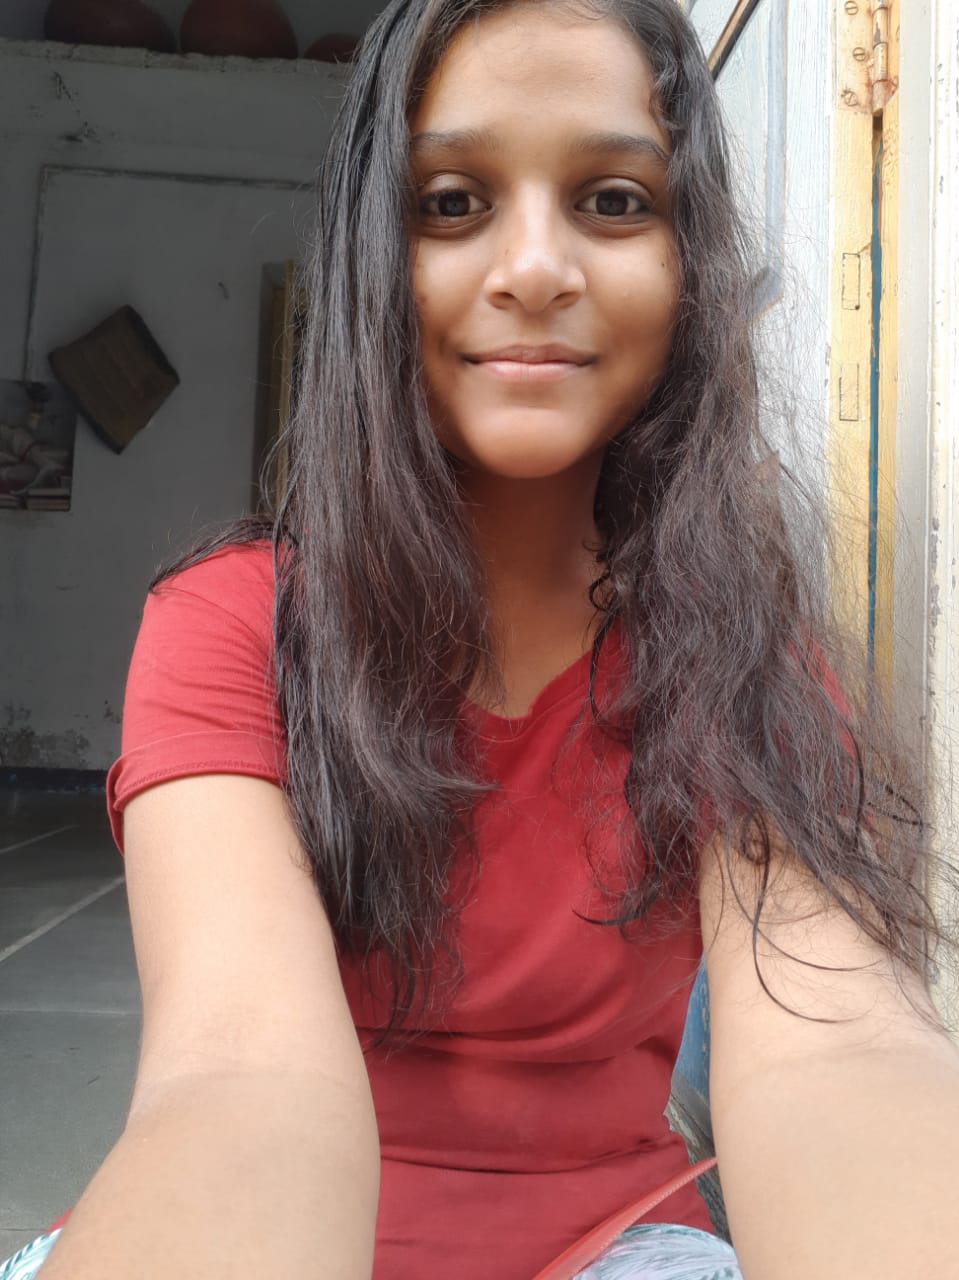face: (404, 2, 687, 475)
